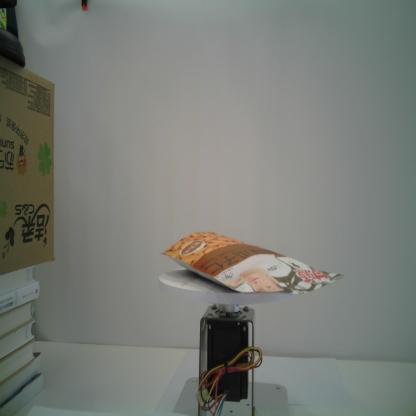Dried Fruit: (160, 231, 344, 295)
